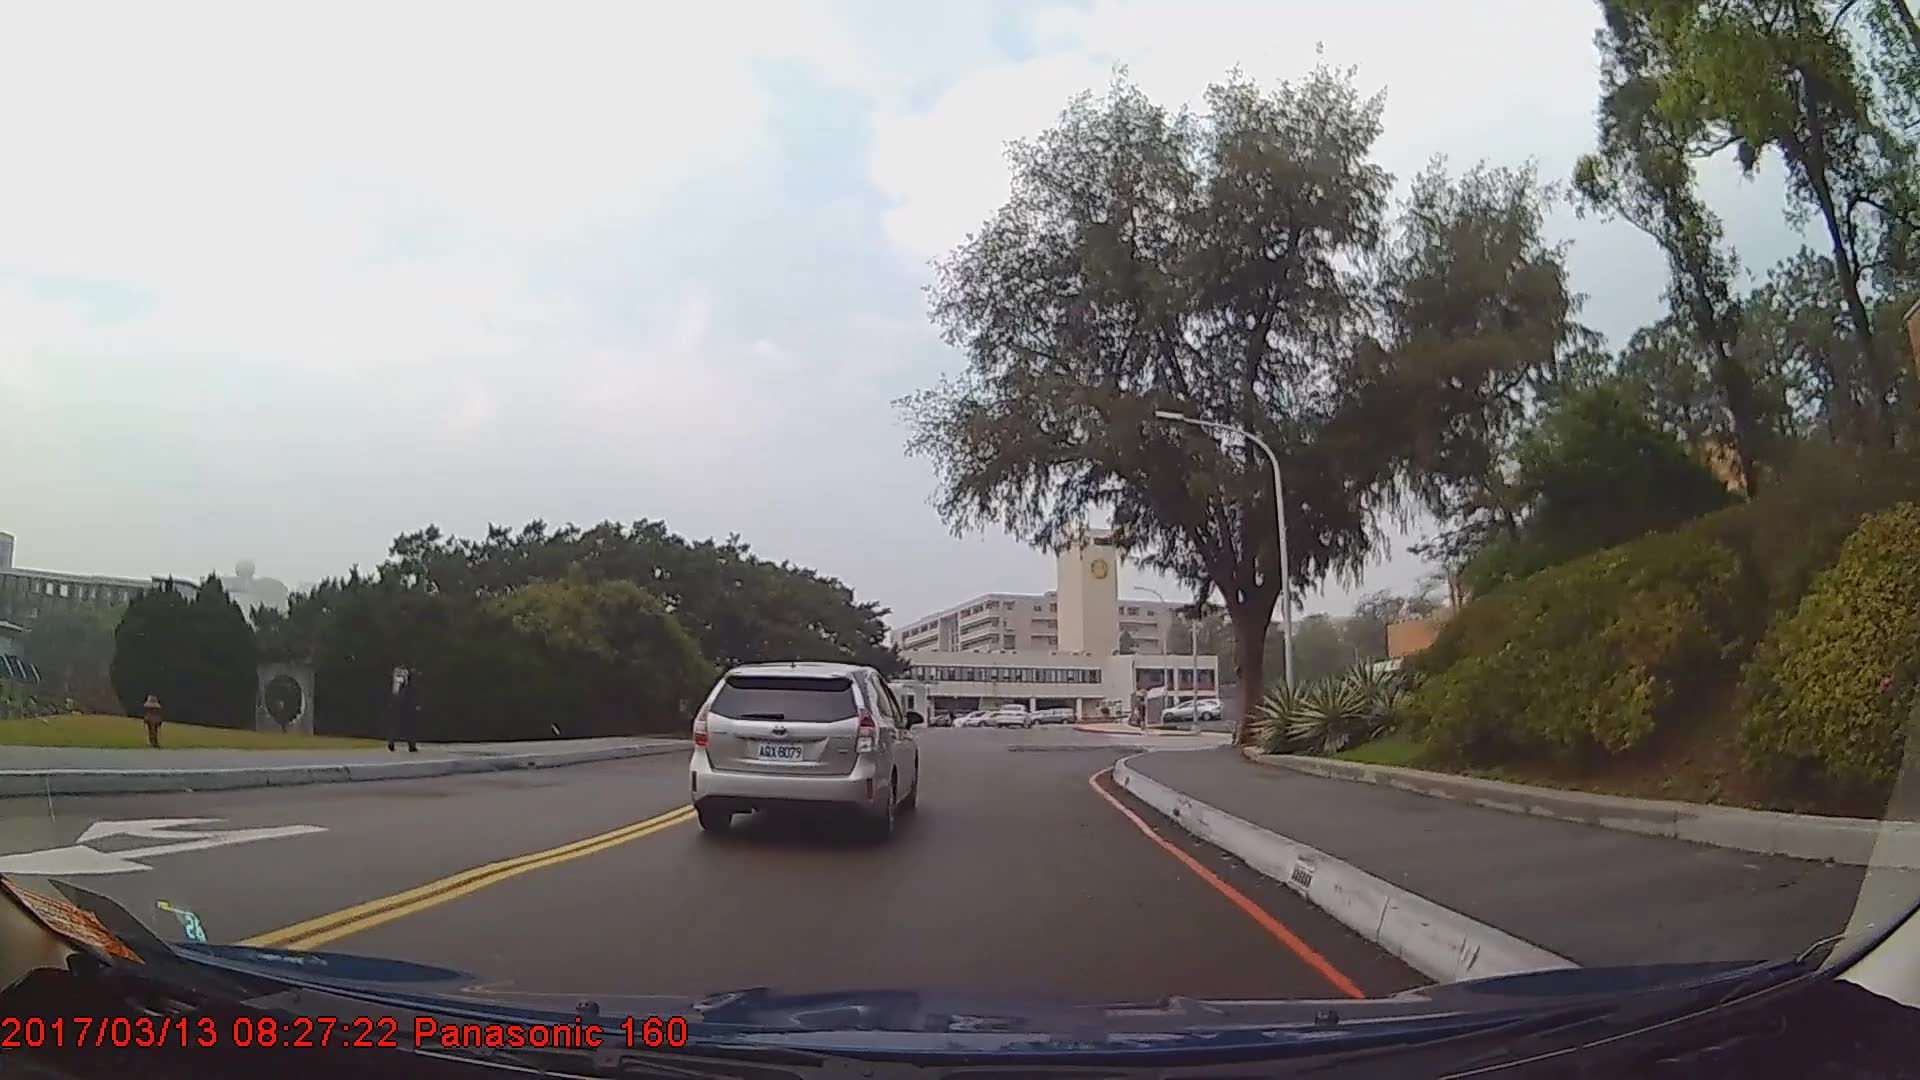pedestrian: (374, 647, 424, 756)
vehicle: (689, 659, 920, 842), (1158, 699, 1218, 721), (991, 701, 1031, 728)
